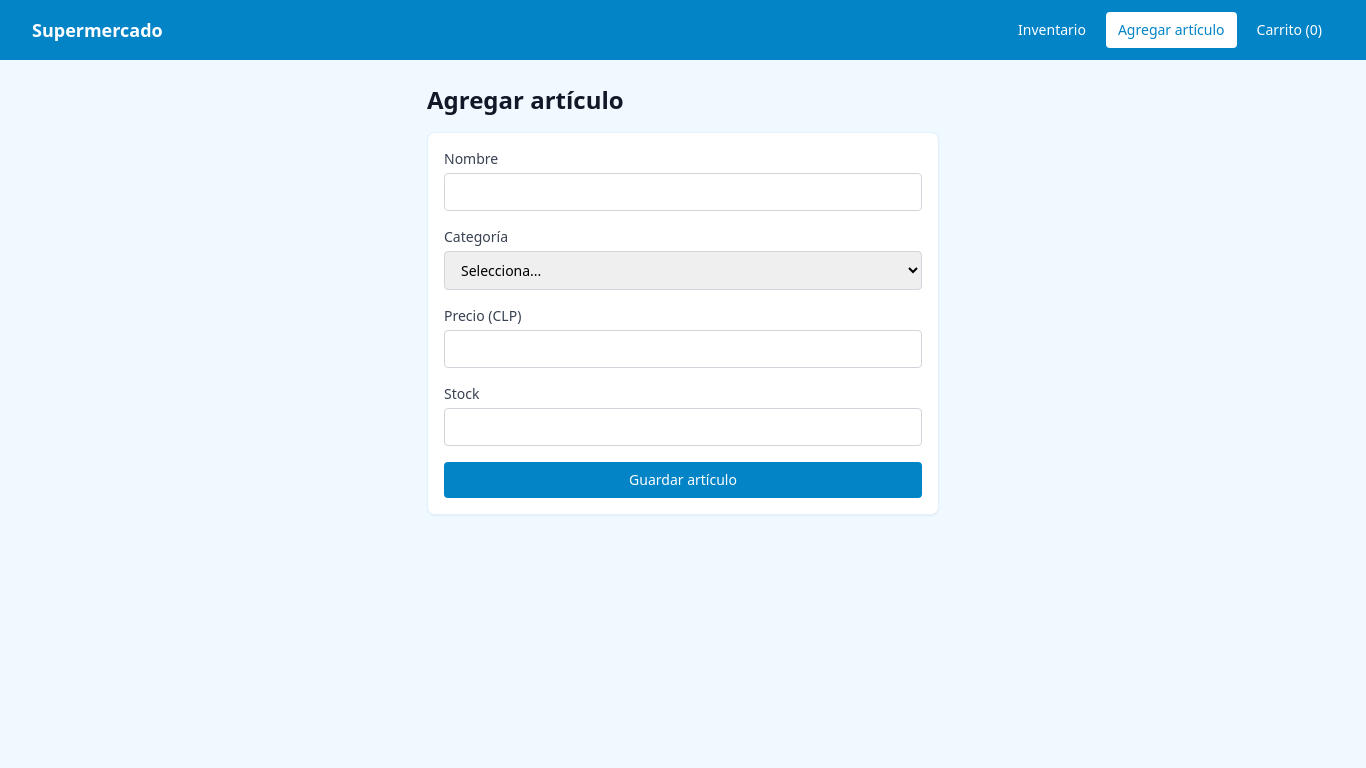
Test: Agregar artículo › muestra errores con datos inválidos y no guarda
The image size is (1366, 768).
Click the button "Guardar artículo": (683, 480) [444, 462, 922, 498]
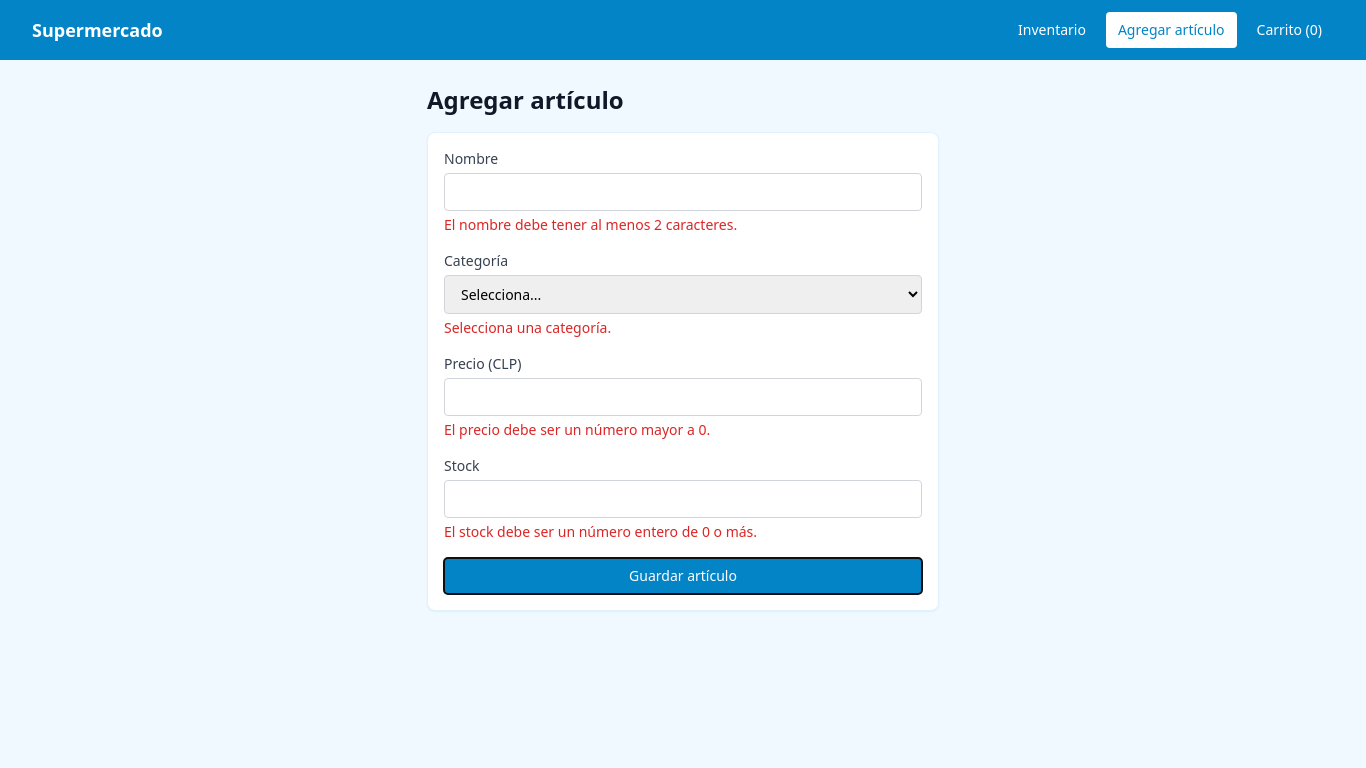
Now the text "El nombre debe tener al menos 2 caracteres." is shown, box [444, 215, 737, 234]
Now the text "Selecciona una categoría." is shown, box [444, 318, 611, 337]
